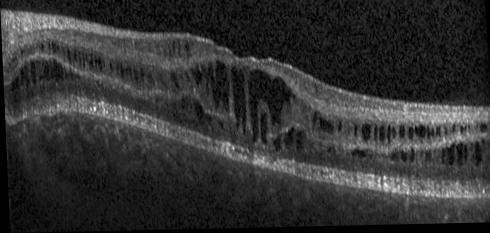intraretinal_cyst: (246, 69, 295, 145), (200, 60, 229, 123), (229, 66, 246, 138), (188, 64, 202, 88), (282, 128, 296, 151), (469, 143, 481, 169), (37, 58, 49, 82), (52, 58, 63, 83), (259, 114, 267, 146), (318, 118, 332, 136), (454, 142, 462, 169), (359, 124, 370, 143), (413, 126, 424, 145), (445, 144, 454, 167), (193, 103, 203, 123), (294, 131, 303, 153), (169, 72, 180, 90), (183, 42, 192, 61), (29, 61, 36, 85), (23, 60, 29, 86), (310, 112, 317, 134), (271, 137, 280, 154), (204, 115, 213, 131), (18, 63, 24, 87), (388, 149, 398, 163), (158, 74, 167, 89), (349, 151, 365, 159), (176, 39, 182, 60), (146, 71, 154, 86), (377, 128, 384, 144), (385, 125, 390, 146), (406, 128, 413, 143), (399, 151, 406, 166), (425, 128, 433, 141), (203, 82, 209, 98), (397, 127, 404, 140), (408, 150, 414, 165), (439, 149, 444, 167), (60, 45, 65, 63), (423, 152, 431, 163), (49, 57, 53, 79), (390, 127, 396, 141), (132, 68, 138, 82), (478, 125, 486, 135), (97, 56, 102, 72), (81, 50, 85, 70), (216, 120, 223, 131), (462, 147, 466, 166), (119, 64, 124, 79), (88, 52, 93, 67), (51, 40, 56, 55), (180, 95, 185, 110), (434, 128, 440, 140), (458, 128, 466, 137), (183, 72, 190, 82), (139, 69, 144, 83), (68, 67, 73, 81), (94, 79, 101, 89), (372, 126, 376, 143), (167, 45, 171, 62), (66, 48, 70, 65), (336, 122, 341, 135), (352, 126, 357, 139), (73, 47, 77, 63), (448, 126, 454, 136), (63, 65, 67, 80), (128, 67, 132, 81), (56, 45, 60, 59), (418, 151, 423, 162), (172, 41, 175, 59), (77, 52, 81, 65), (178, 74, 184, 82), (20, 48, 25, 57), (84, 53, 88, 64), (94, 55, 97, 69), (11, 56, 17, 63), (443, 128, 447, 138), (75, 74, 80, 82), (414, 153, 417, 166), (47, 43, 50, 56), (480, 139, 484, 148), (40, 44, 44, 53), (325, 149, 330, 156), (109, 62, 112, 73), (115, 65, 118, 75), (124, 68, 127, 77), (368, 156, 372, 162), (163, 50, 166, 57), (154, 98, 158, 103), (466, 127, 469, 132), (7, 62, 10, 67), (102, 61, 104, 68), (474, 127, 477, 131)
